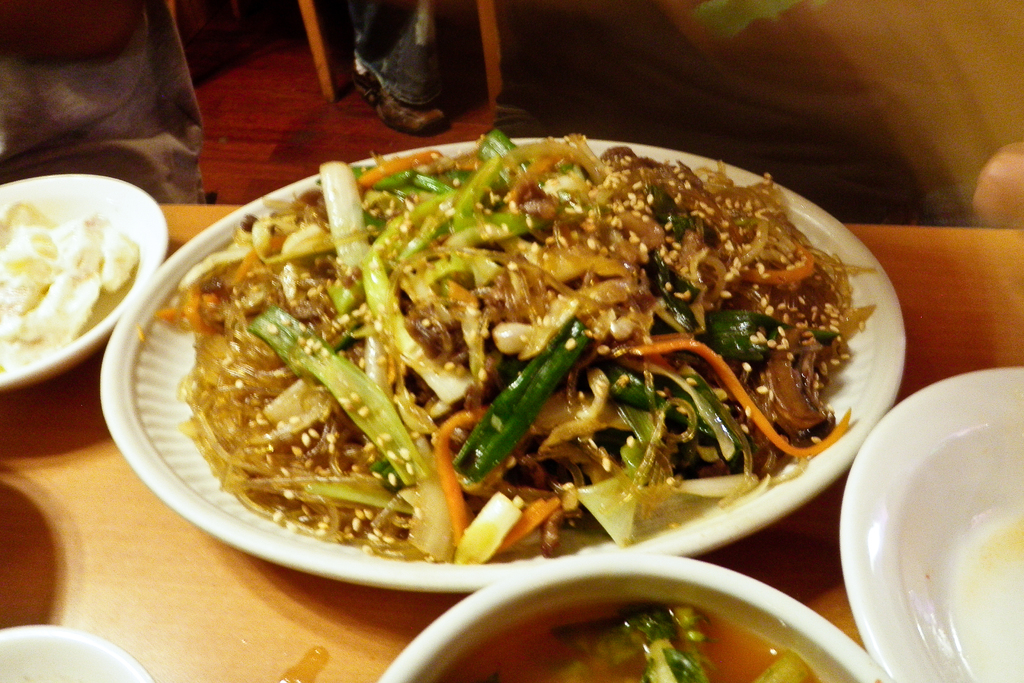salad: (157, 118, 879, 566)
